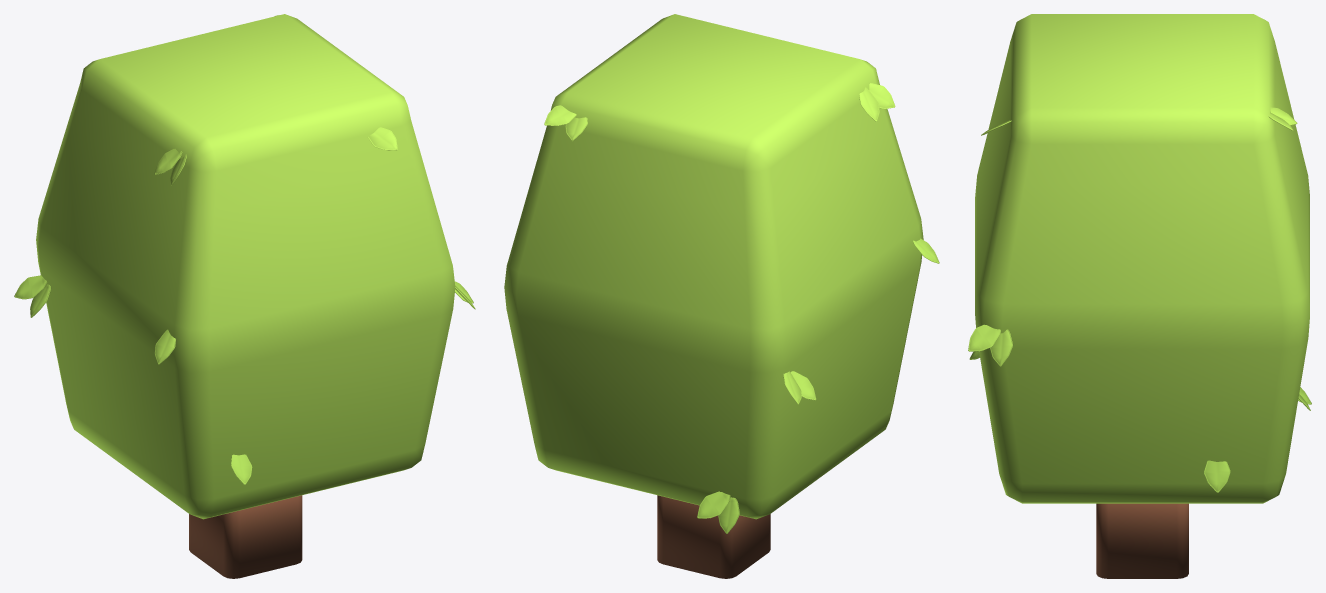
File: arvore basica.fbx
3 views of the same model, side by side, from view 1: azimuth 30°, elevation 25°; view 2: azimuth 150°, elevation 25°; view 3: azimuth 270°, elevation 25° (orthographic). The views are drawn at different scales.
Parts seen in each view (by area): view 1: arvorebasica; view 2: arvorebasica; view 3: arvorebasica.
Part boxes in pixels (x1=…): arvorebasica: x1=14, y1=14, x2=475, y2=578; arvorebasica: x1=504, y1=14, x2=939, y2=578; arvorebasica: x1=968, y1=14, x2=1311, y2=578.
Size of the model in its own units: 273 by 392 by 245.
